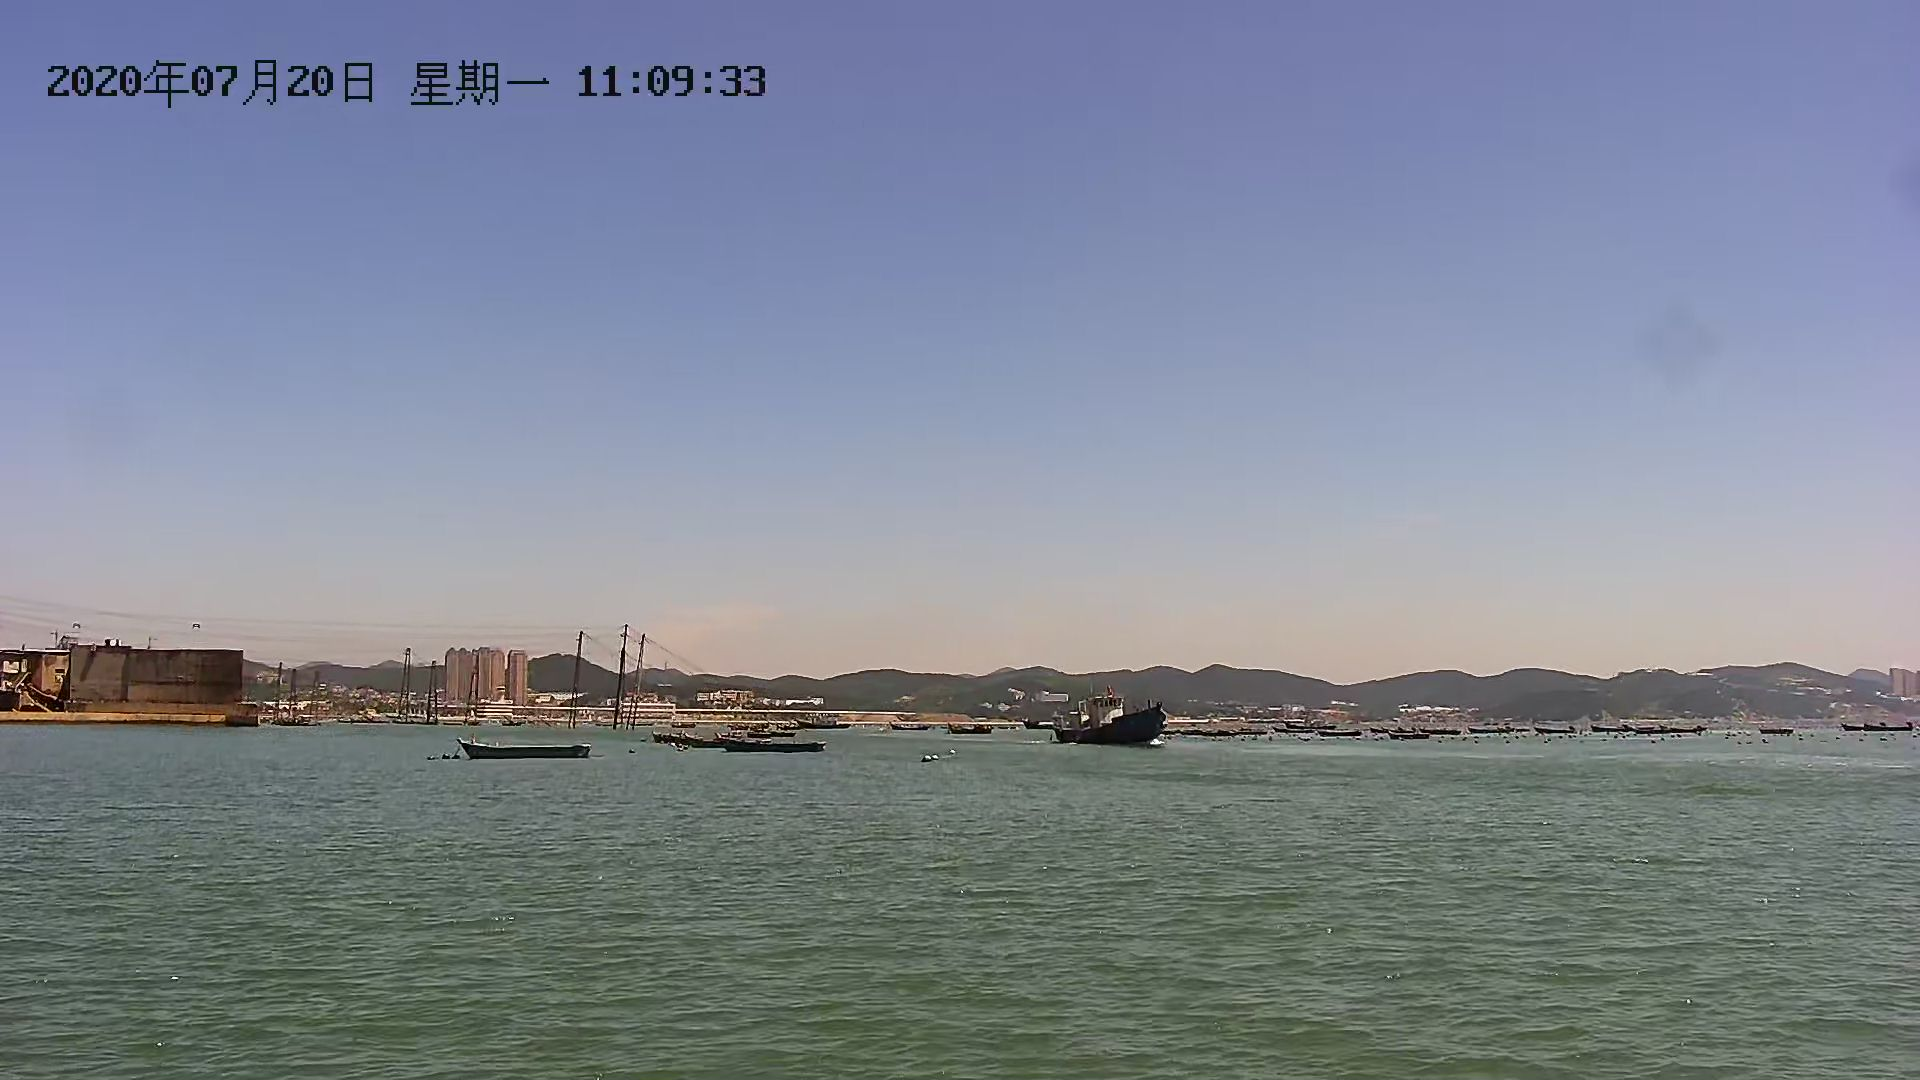boat: (458, 731, 597, 764), (729, 727, 825, 760)
mast: (562, 626, 582, 735), (392, 641, 415, 725), (626, 634, 645, 731), (611, 622, 624, 736), (425, 658, 440, 727)
ship: (1050, 688, 1172, 756)
